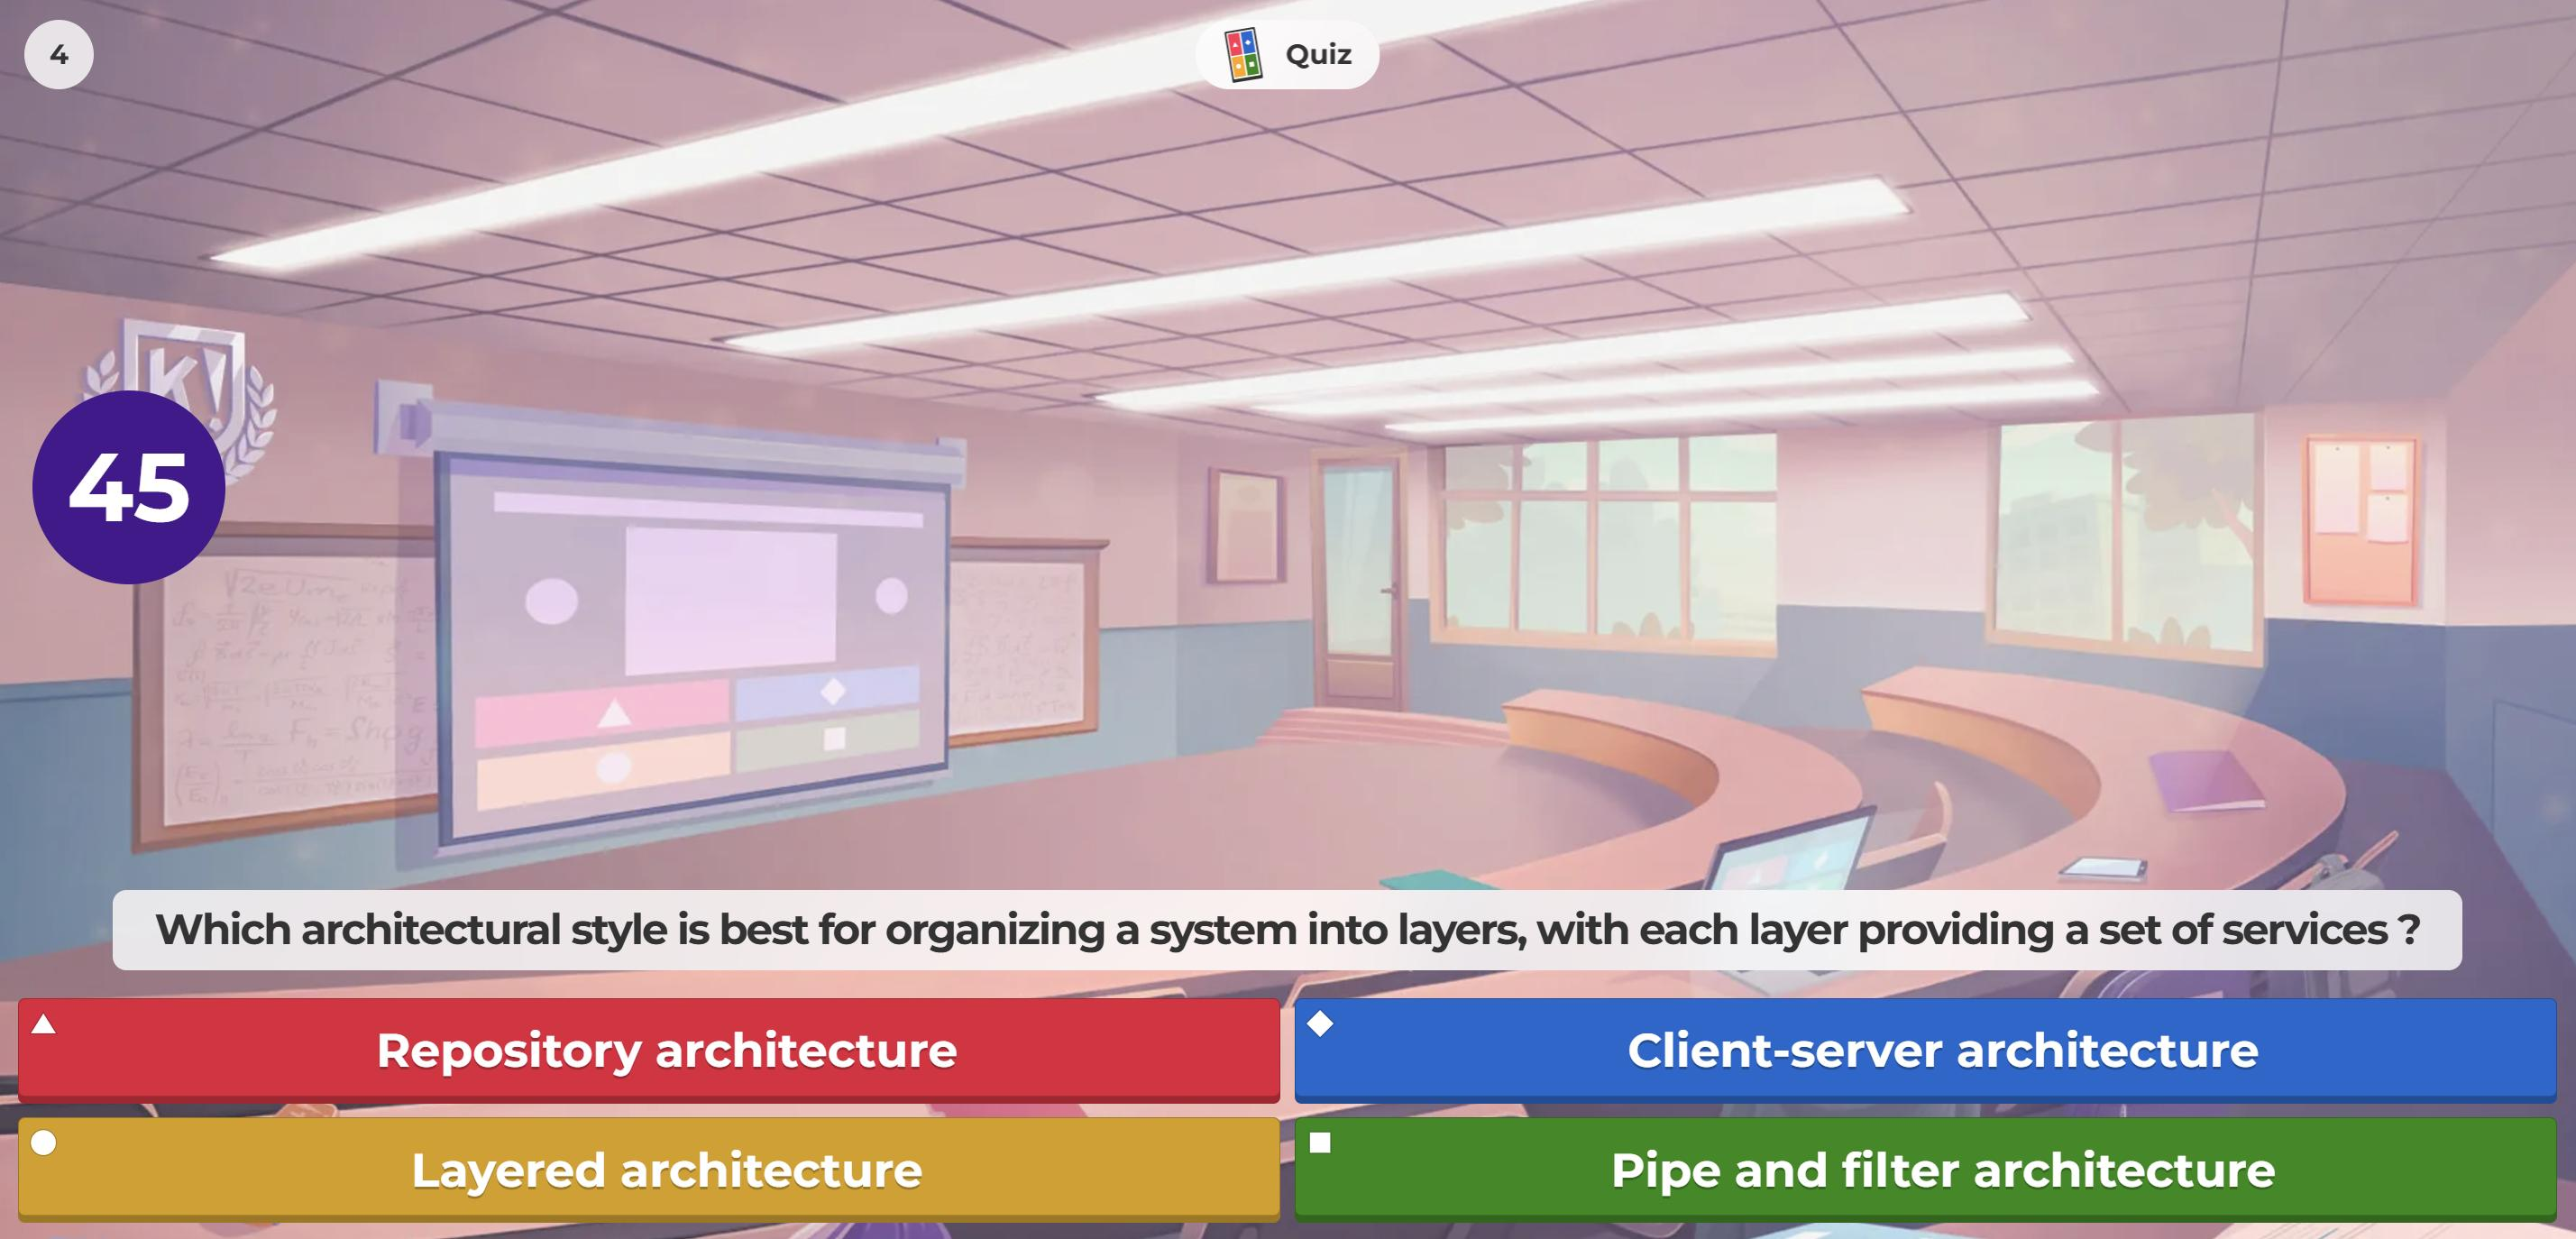answer_blue: (1298, 1004, 2550, 1096)
answer_green: (1295, 1122, 2553, 1211)
answer_red: (21, 999, 1268, 1093)
answer_yellow: (18, 1116, 1278, 1216)
question_box: (115, 892, 2458, 966)
